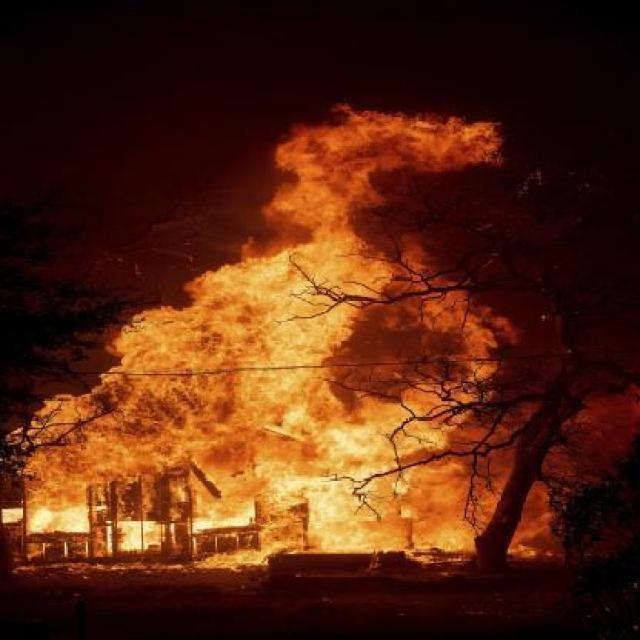Fire: (9, 341, 502, 568), (101, 104, 512, 330), (523, 373, 630, 576)
